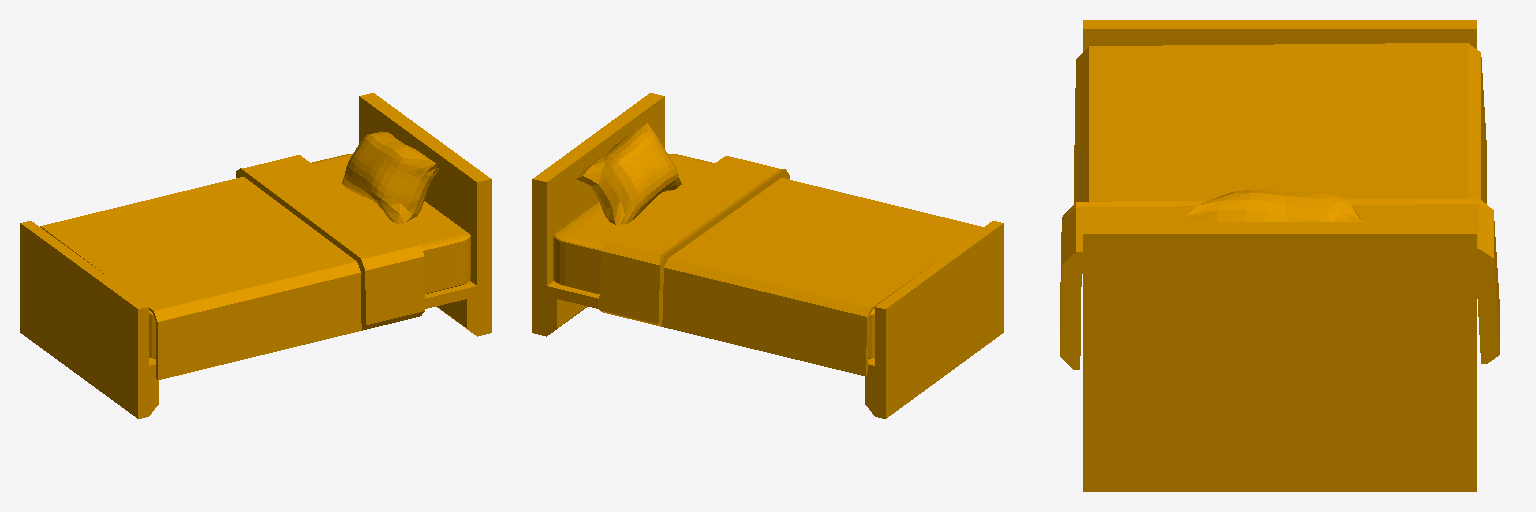
URDF robot description (mesh_object):
<robot name="mesh_object">
            <link name="base">
                <visual>
                    <geometry>
                        <mesh filename="bed_1.obj" scale="1 1 1" />
                    </geometry>
                </visual>
                <collision>
                    <geometry>
                        <mesh filename="bed_1.obj" scale="1 1 1" />
                    </geometry>
                </collision>
                <inertial>
                    <origin xyz="0 0 0.020620475" rpy="0 0 0" />
                    <mass value="0.5" />
                    <inertia ixx="0.01" iyy="0.01" izz="0.01" ixy="0" ixz="0" iyz="0" />
                </inertial>
            </link>
            </robot>

--- What the picture shows (computed from the rendered views, not written in the file) ---
3 views of the same robot in one strip: view 1: azimuth 30°, elevation 25°; view 2: azimuth 150°, elevation 25°; view 3: azimuth 270°, elevation 25° (orthographic).
Model mesh_object with 1 links and 0 joints (none), rooted at base, posed every joint at zero.
Links seen in each view (by area): view 1: base; view 2: base; view 3: base.
Boxes of the visible links, x1,y1,x2,y2 form: base: (20,93,491,418); base: (532,93,1003,418); base: (1060,20,1499,491).
Size in the robot's own frame: 0.0958 by 0.062 by 0.0412 metres.
Meshes: 1 distinct files referenced, 1 mesh visuals loaded (1 OBJ).
